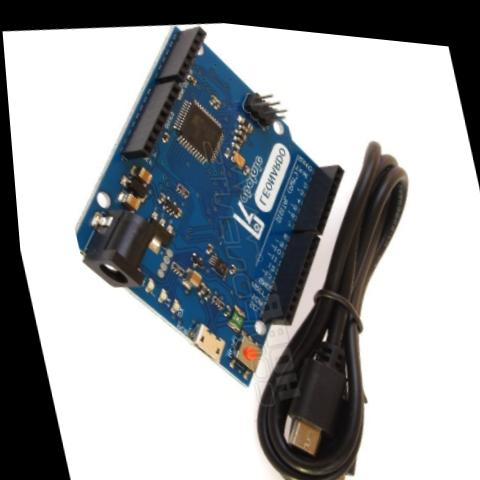Arduino-Leonardo: (29, 2, 396, 427)
